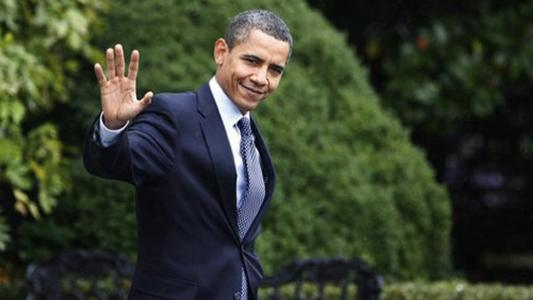person: (83, 8, 293, 300)
